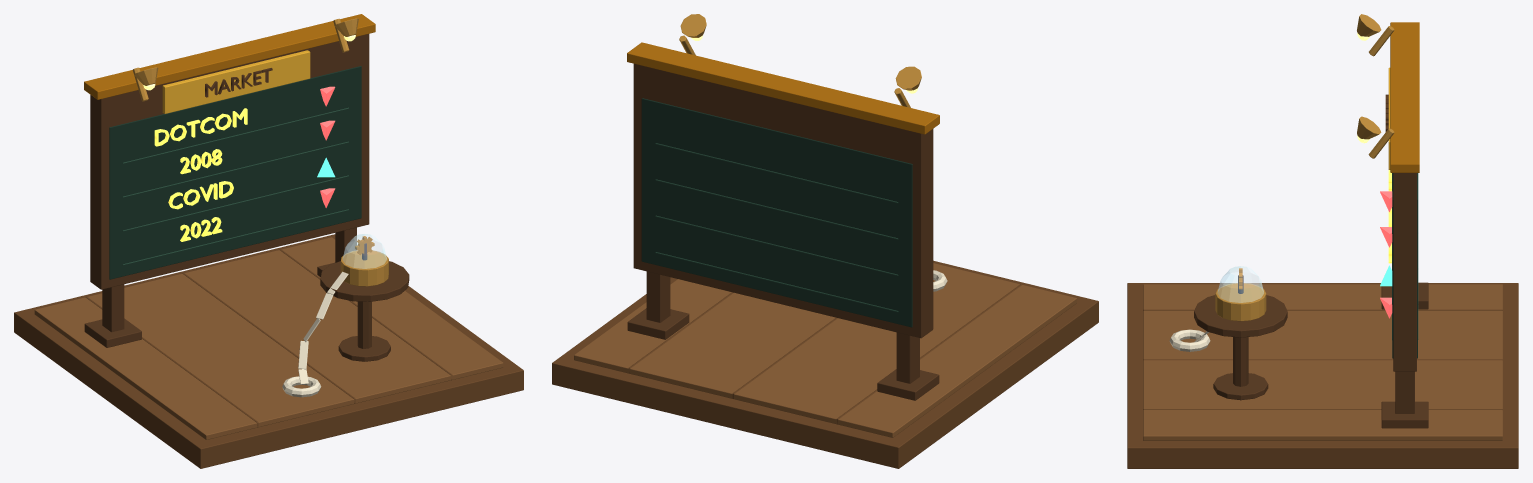
File: ticker_board.glb
3 views of the same model, side by side, from view 1: azimuth 30°, elevation 25°; view 2: azimuth 150°, elevation 25°; view 3: azimuth 270°, elevation 25° (orthographic). The views are drawn at different scales.
Parts seen in each view (by area): view 1: TickerBoard; view 2: TickerBoard; view 3: TickerBoard.
Part boxes in pixels (x1,y1,x2,y2): TickerBoard: (14, 14, 523, 468); TickerBoard: (552, 14, 1098, 468); TickerBoard: (1127, 14, 1518, 468).
Bounding box in the file's own units: 2 × 1.8 × 2.
